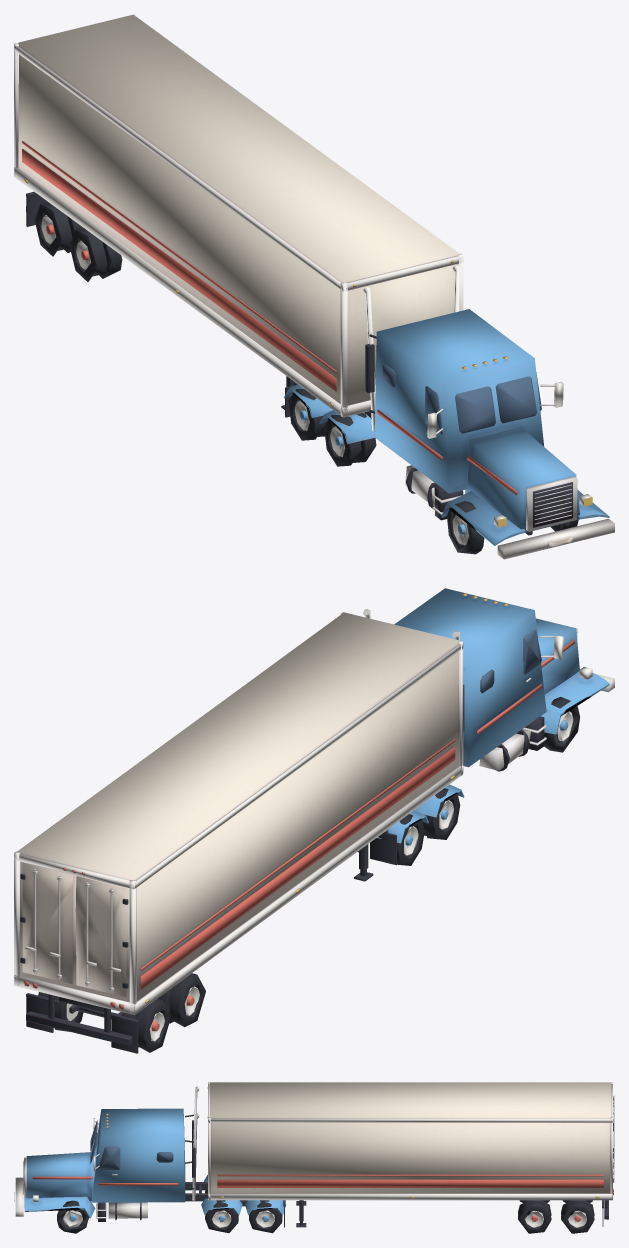
File: g3-semi-truck-lite.glb
3 renders of one model, top to bottom at view 1: azimuth 30°, elevation 25°; view 2: azimuth 150°, elevation 25°; view 3: azimuth 270°, elevation 25°, orthographic. The views are drawn at different scales.
Parts seen in each view (by area): view 1: semi-truck_trailer, semi-truck_body, semi-truck_windows, semi-truck_wheel_t1r, semi-truck_wheel_t2r, semi-truck_wheel_d1r, semi-truck_wheel_fr, semi-truck_wheel_d2r; view 2: semi-truck_trailer, semi-truck_body, semi-truck_wheel_t1r, semi-truck_wheel_t2r, semi-truck_wheel_d1r, semi-truck_wheel_fr, semi-truck_wheel_d2r, semi-truck_windows; view 3: semi-truck_trailer, semi-truck_body, semi-truck_wheel_t2l, semi-truck_wheel_t1l, semi-truck_windows, semi-truck_wheel_d2l, semi-truck_wheel_d1l, semi-truck_wheel_fl.
Boxes of the visible parts, x1,y1,x2,y2 form: semi-truck_trailer: [14, 14, 463, 417]; semi-truck_body: [284, 265, 614, 559]; semi-truck_windows: [382, 364, 541, 434]; semi-truck_wheel_t1r: [69, 228, 122, 281]; semi-truck_wheel_t2r: [34, 203, 84, 256]; semi-truck_wheel_d1r: [324, 413, 376, 466]; semi-truck_wheel_fr: [446, 501, 484, 554]; semi-truck_wheel_d2r: [288, 388, 326, 440]; semi-truck_trailer: [14, 612, 463, 1053]; semi-truck_body: [363, 588, 614, 865]; semi-truck_wheel_t1r: [157, 973, 205, 1027]; semi-truck_wheel_t2r: [121, 999, 170, 1052]; semi-truck_wheel_d1r: [422, 788, 460, 839]; semi-truck_wheel_fr: [544, 697, 579, 752]; semi-truck_wheel_d2r: [397, 814, 424, 865]; semi-truck_windows: [480, 629, 541, 693]; semi-truck_trailer: [207, 1082, 614, 1227]; semi-truck_body: [14, 1086, 286, 1227]; semi-truck_wheel_t2l: [561, 1200, 594, 1233]; semi-truck_wheel_t1l: [518, 1200, 551, 1233]; semi-truck_windows: [90, 1120, 173, 1169]; semi-truck_wheel_d2l: [249, 1200, 282, 1233]; semi-truck_wheel_d1l: [205, 1200, 238, 1232]; semi-truck_wheel_fl: [57, 1200, 89, 1233].
Size of the model in its own units: 2.9 by 3.97 by 18.15.
7 materials, 2 textured.
